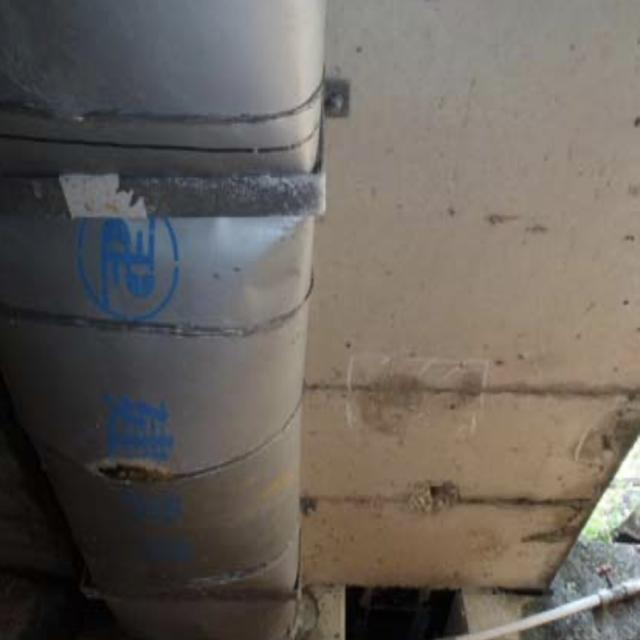spalling: (344, 346, 497, 427), (571, 380, 636, 470), (394, 473, 472, 530)
